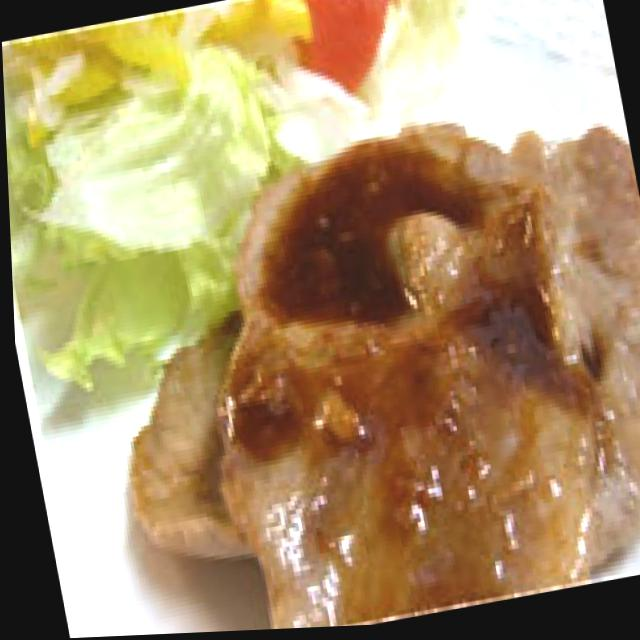猪肉菜式: (73, 68, 640, 638)
